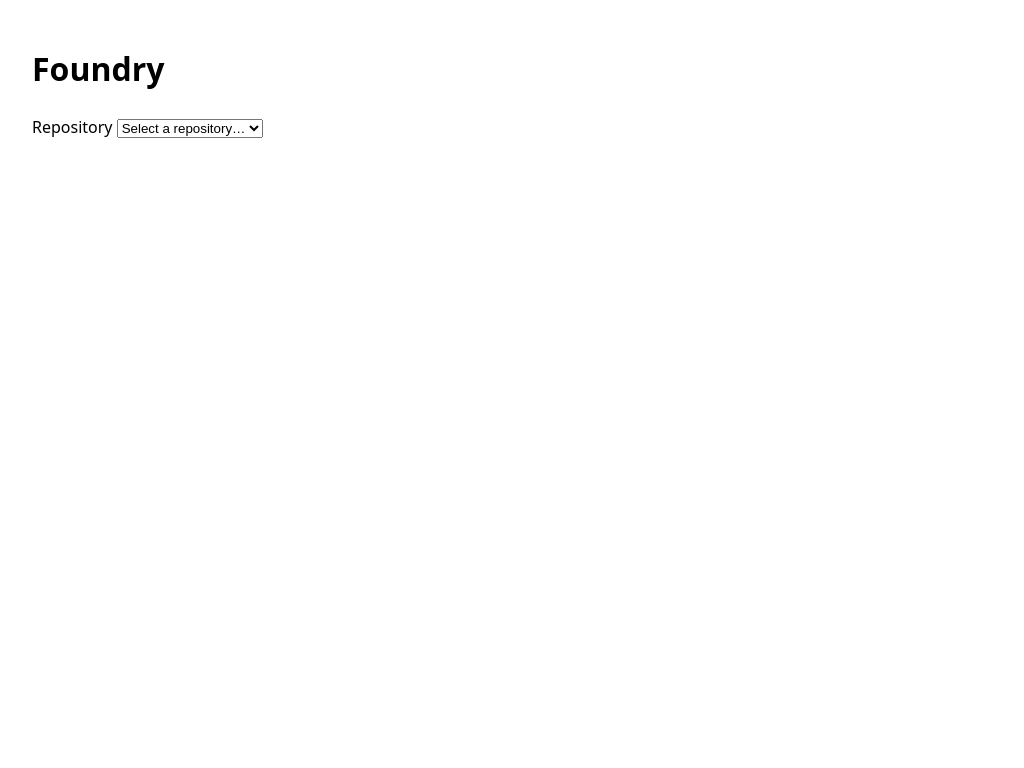
Test: Investigate run record › treats no findings as a normal result with its reason
This screenshot has width=1024, height=768.
Select "acme/demo (3 files)" in the dropdown labelled "Repository" at point(190, 128), box [117,119,263,138]
(page scrolled)
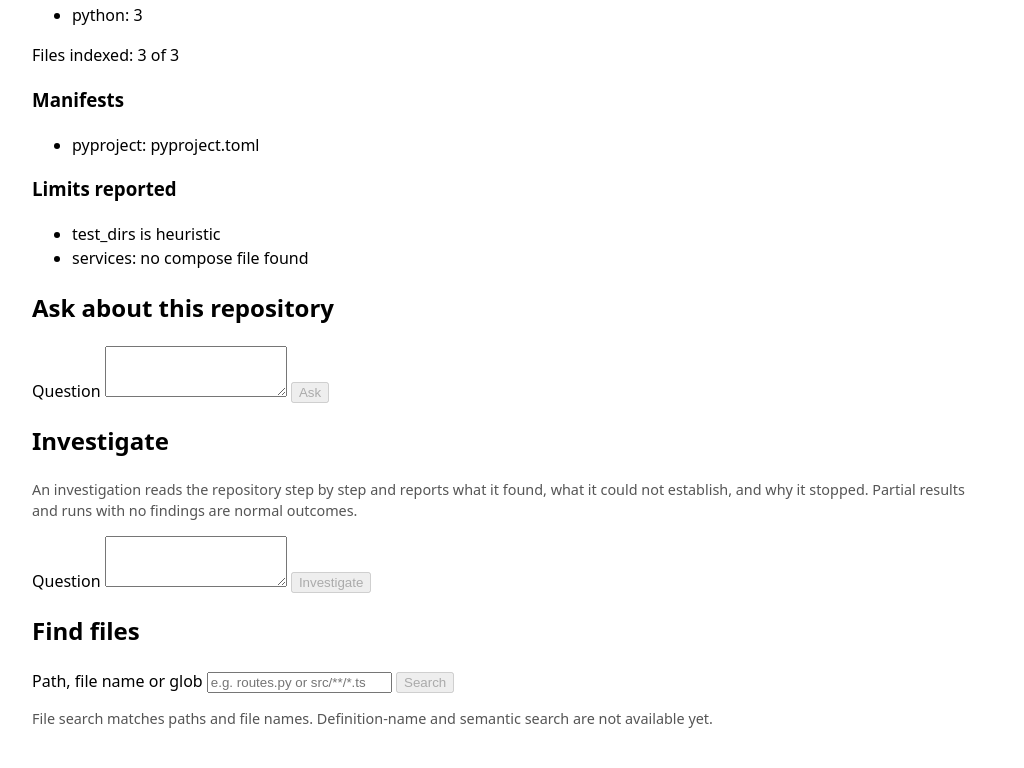
Type "Where is recovery?" into the 2nd text box labelled "Question" at point(196, 562), box [105,536,287,588]
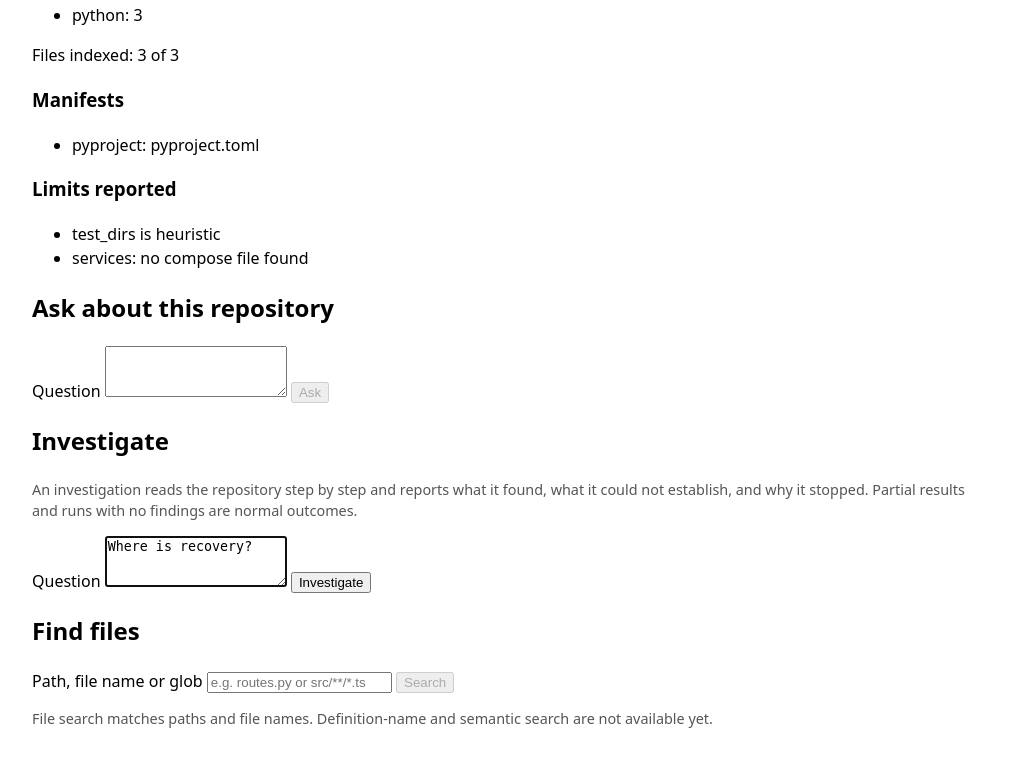
Click the submit button at point(331, 583), box [291,572,371,594]
(page scrolled)
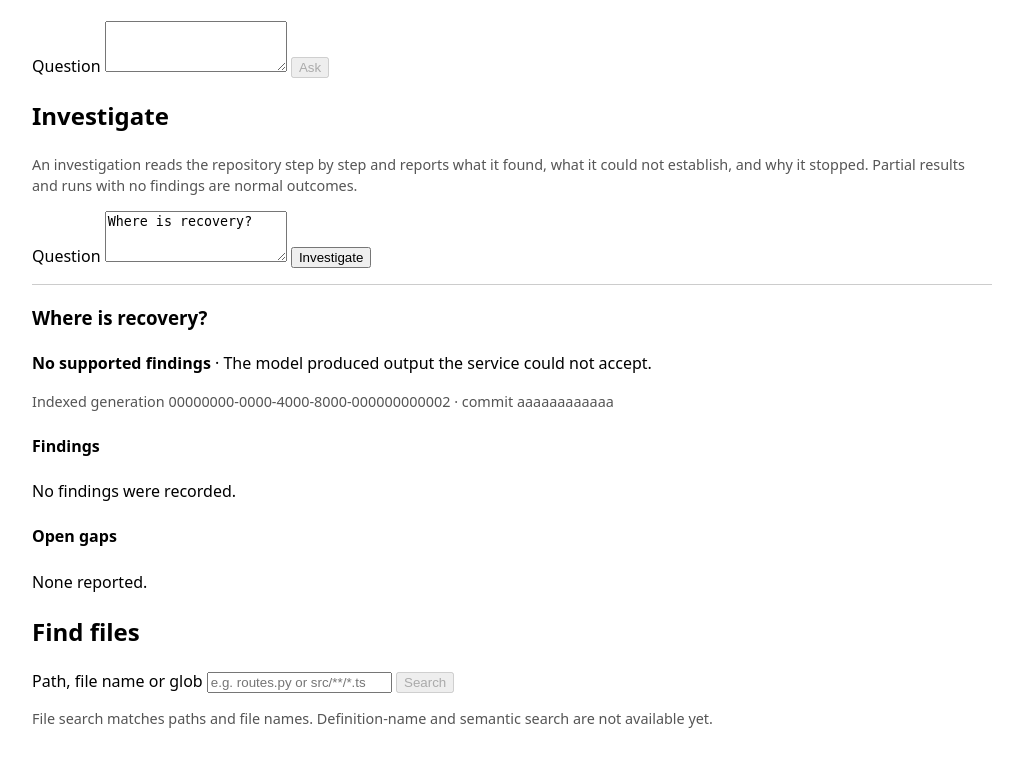
Expected: the text "No supported findings" is shown, [32,352,211,374]
Expected: the text "could not accept" is shown, [211,352,652,374]
Expected: the text "No findings were recorded." is shown, [32,480,236,502]
